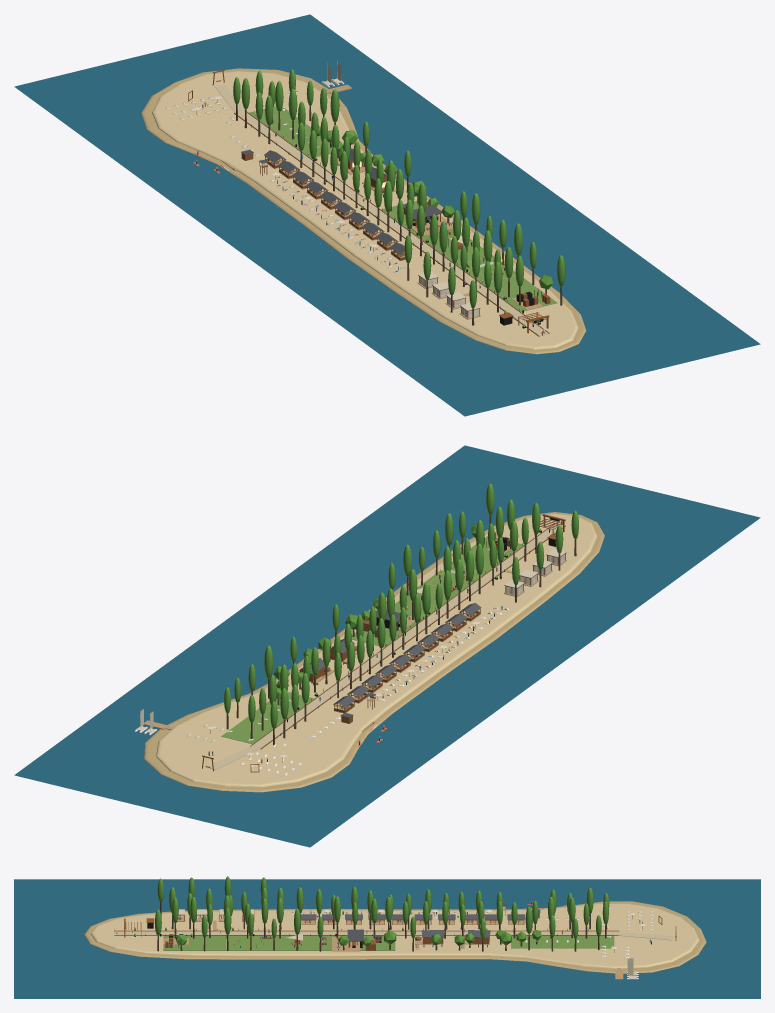
The model's file is plyazh-maket.glb.
3 renders of one model, top to bottom at view 1: azimuth 30°, elevation 25°; view 2: azimuth 150°, elevation 25°; view 3: azimuth 270°, elevation 25°, orthographic. The views are drawn at different scales.
Parts seen in each view (by area): view 1: PlyazhOsnova; view 2: PlyazhOsnova; view 3: PlyazhOsnova.
Part boxes in pixels (box(x1,y1,x2,y2)): PlyazhOsnova: box(14, 14, 760, 416); PlyazhOsnova: box(14, 445, 760, 847); PlyazhOsnova: box(14, 876, 760, 998).
Size of the model in its own units: 0.275 by 0.053 by 0.725.
53 materials, 4 textured.
